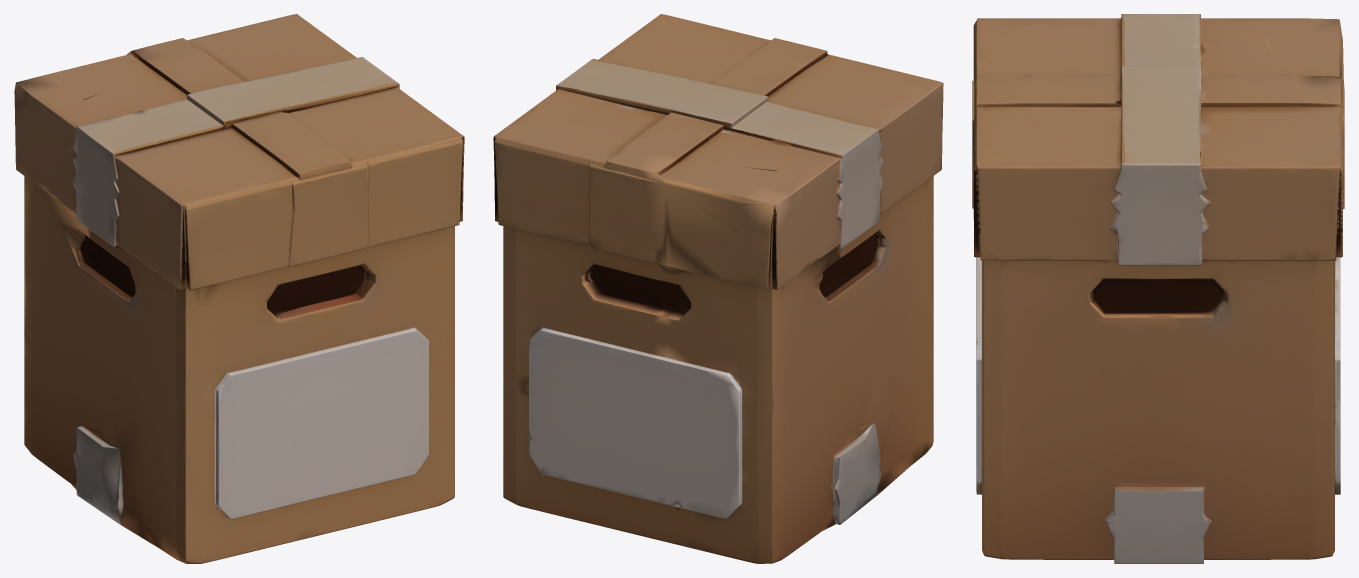
File: CargoBoxLarge.fbx
3 renders of one model, left to right at view 1: azimuth 30°, elevation 25°; view 2: azimuth 150°, elevation 25°; view 3: azimuth 270°, elevation 25°, orthographic. The views are drawn at different scales.
Parts seen in each view (by area): view 1: texture_pbr_v128; view 2: texture_pbr_v128; view 3: texture_pbr_v128.
Part boxes in pixels (box(x1,y1,x2,y2)): texture_pbr_v128: box(14, 14, 464, 563); texture_pbr_v128: box(493, 14, 943, 563); texture_pbr_v128: box(972, 14, 1344, 563).
Size of the model in its own units: 64.79 by 81.52 by 67.36.
Materials: 1 (1 with a texture image).
